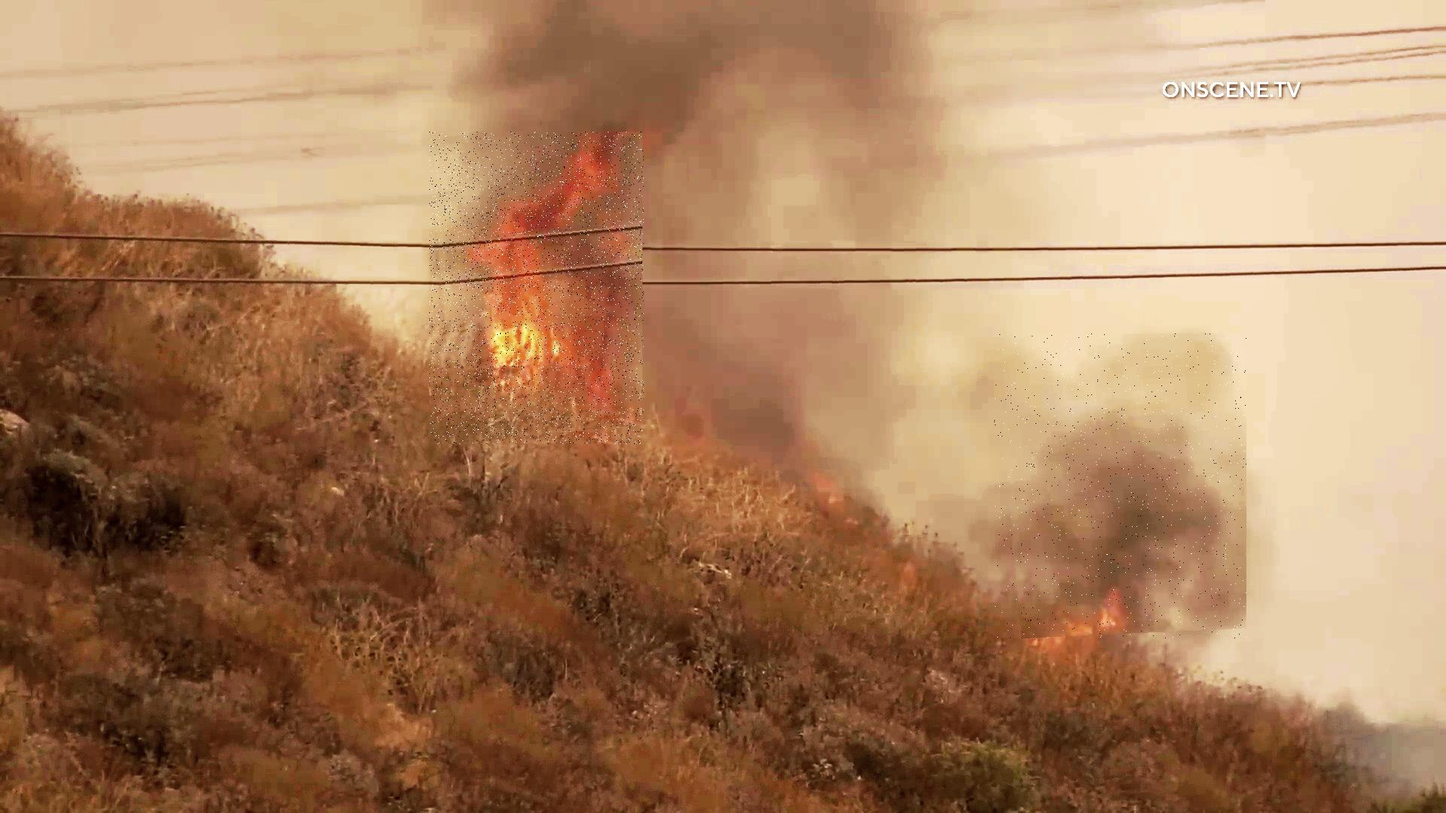fire: (994, 334, 1246, 638), (430, 132, 645, 444)
